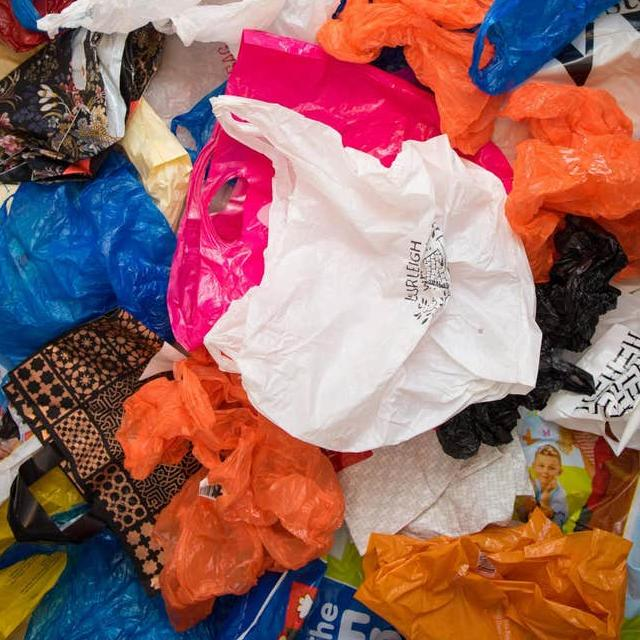Single-layer Plastic: (204, 95, 541, 451), (116, 349, 344, 630), (439, 215, 628, 458), (0, 150, 176, 368), (356, 509, 631, 640), (318, 0, 508, 154), (226, 30, 440, 166), (500, 82, 640, 282), (168, 124, 272, 350), (25, 530, 212, 640), (540, 286, 640, 453), (38, 0, 335, 52), (528, 10, 640, 138), (469, 0, 619, 95), (120, 98, 192, 231), (0, 551, 68, 639)
